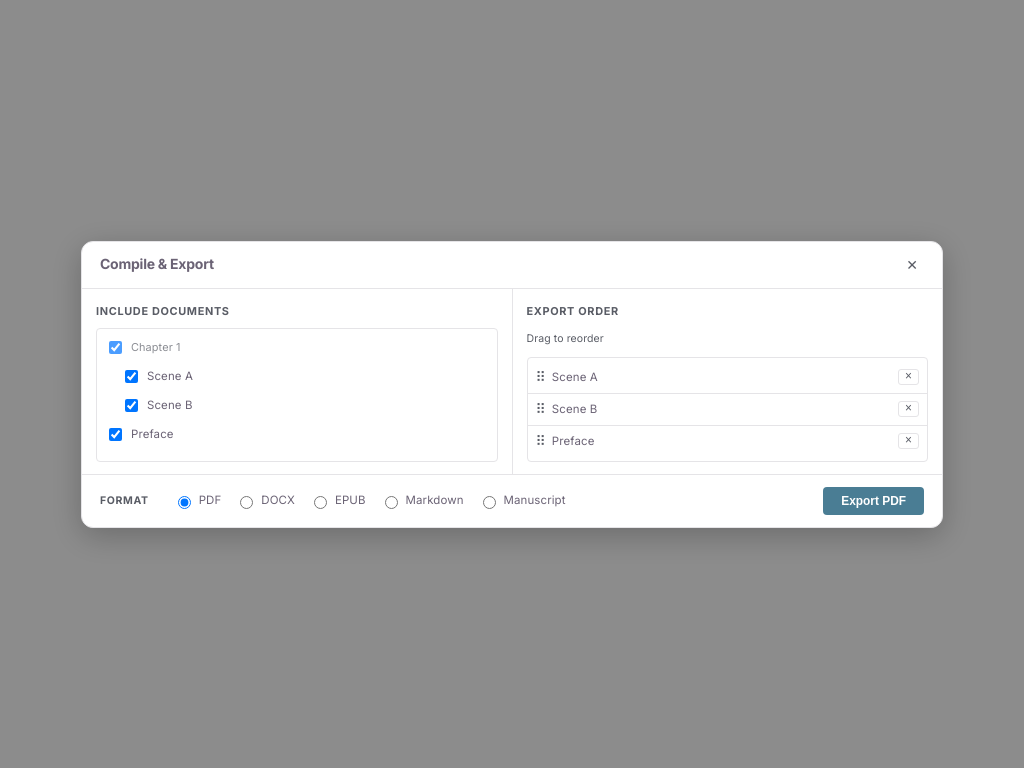
Test: CompileModal — toggleDoc › re-checking a scene adds it back to the export-order panel
Click the checkbox labelled "Scene A" at (132, 376), box [125,370,138,382]
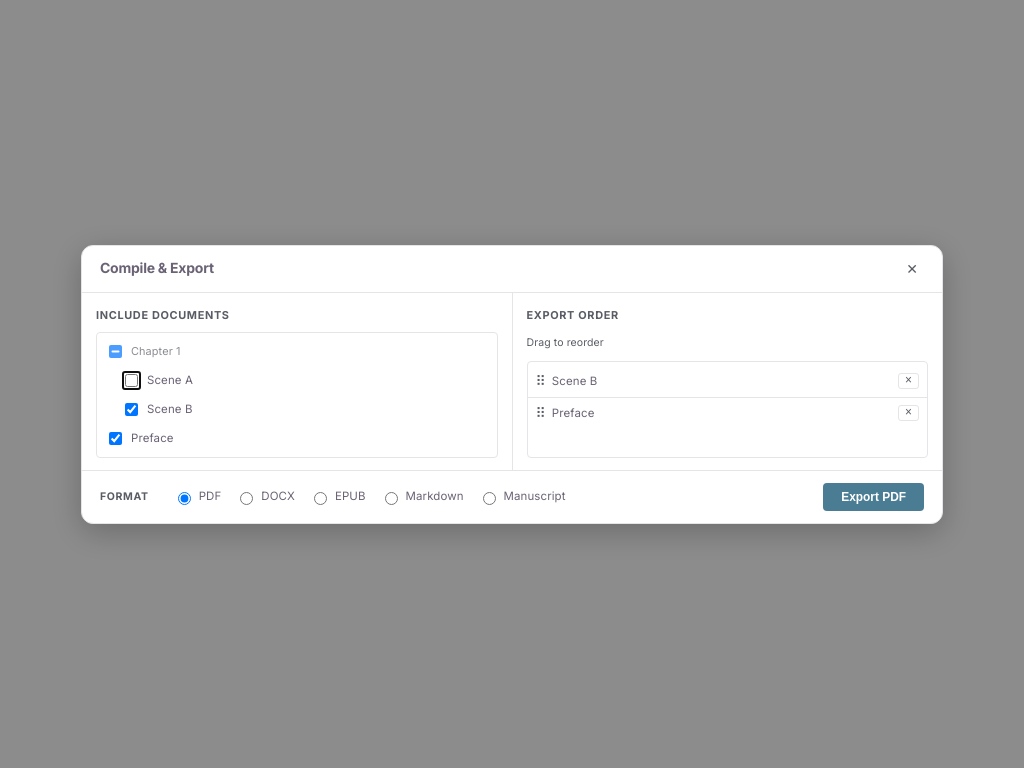
Click the checkbox labelled "Scene A" at (132, 380), box [125,374,138,386]
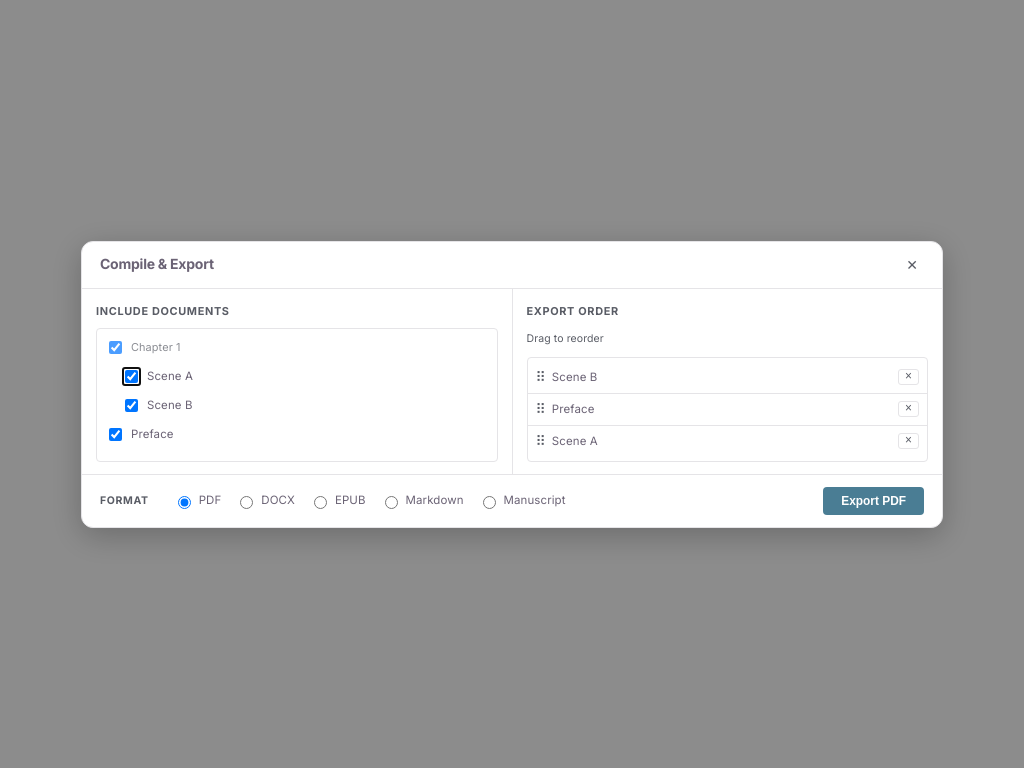
Expected: the button named "Remove Scene A from export" is shown, [898,433,919,449]
